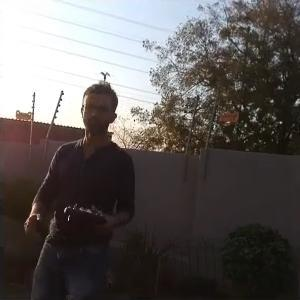follow: (16, 74, 139, 298)
